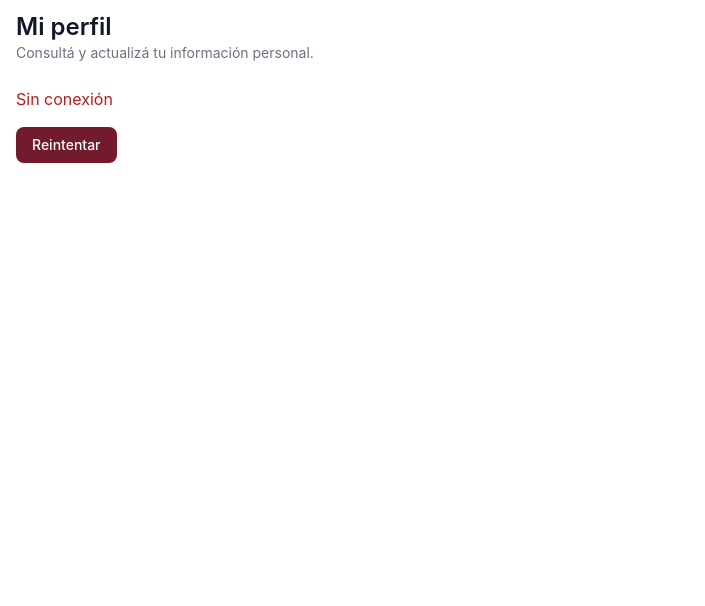
it: Mi perfil › permite reintentar cuando falla la carga
Click the button "Reintentar" at (66, 145), box [16,127,116,163]
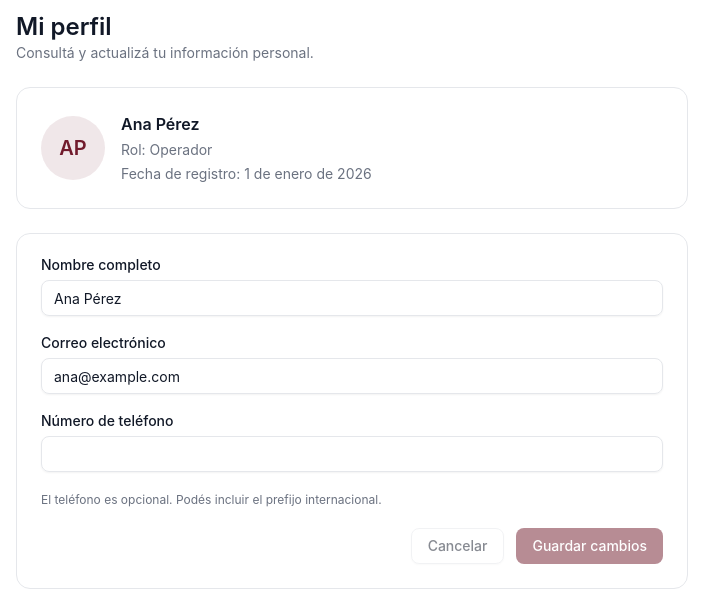
Expected: the field showing "Ana Pérez" is shown, [41,280,663,316]
